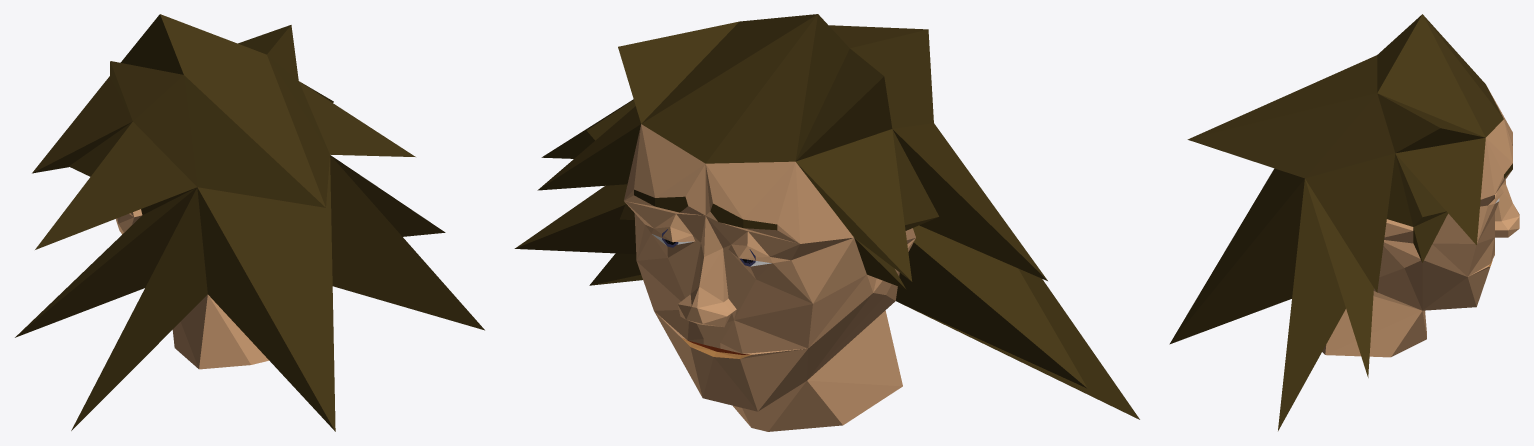
The model's file is npc_chat_zahwa_0.obj.
The picture shows the model from 3 angles, left to right: view 1: azimuth 30°, elevation 25°; view 2: azimuth 150°, elevation 25°; view 3: azimuth 270°, elevation 25°; orthographic projection. The views are drawn at different scales.
Bounding box in the file's own units: 1.62 × 1.19 × 1.21.
